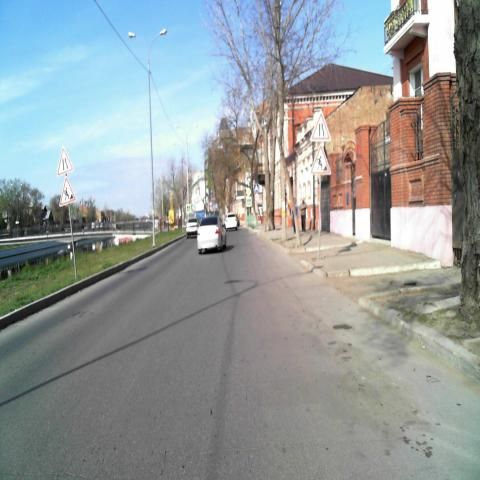1_20_2: (308, 110, 331, 143), (56, 148, 73, 176)
1_25: (310, 143, 332, 177), (59, 177, 76, 207)
2_1: (246, 186, 252, 197)
3_24: (254, 192, 259, 202)
5_19_1: (246, 196, 252, 207)
5_20: (254, 184, 259, 192)
